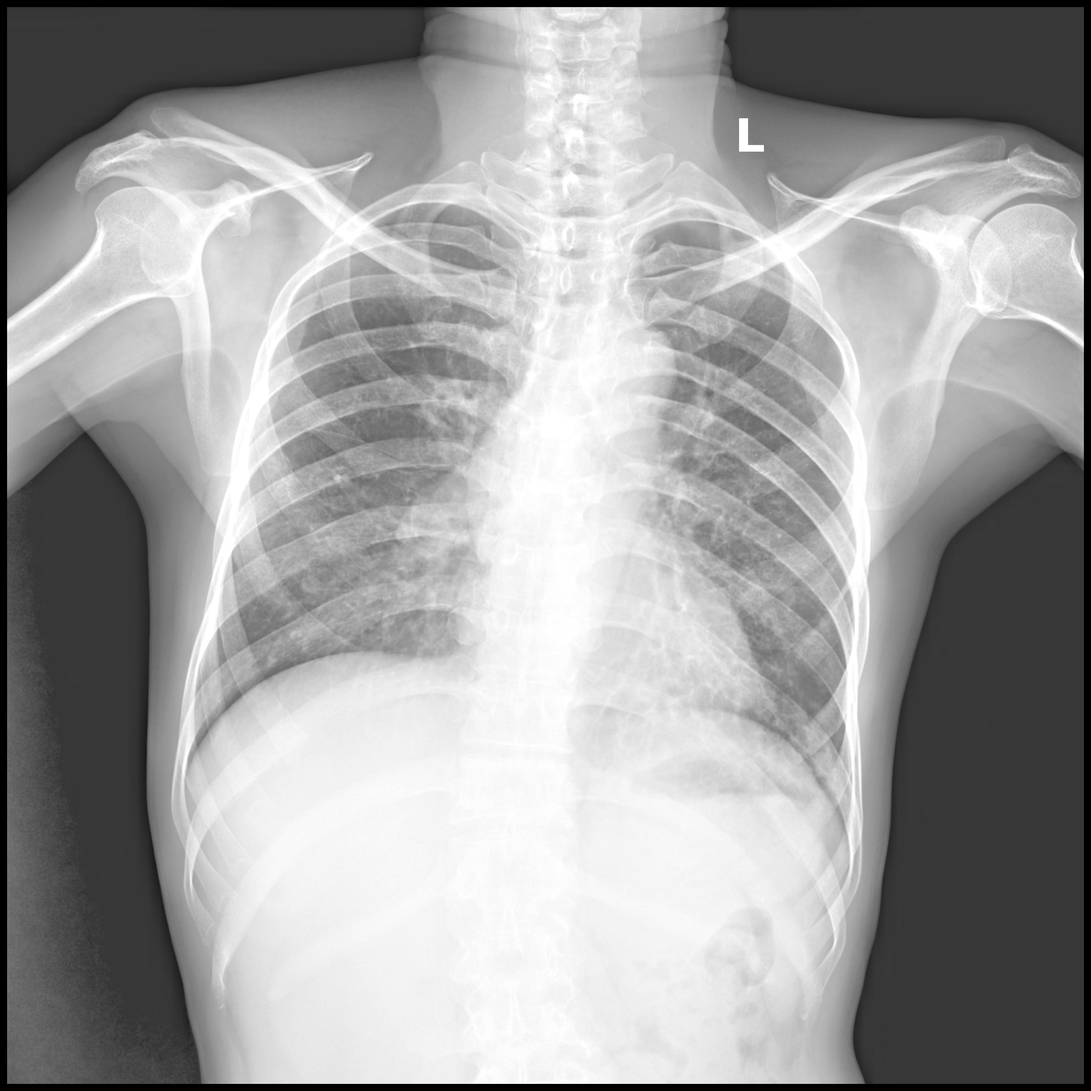Aortic enlargement: (580, 314, 677, 422)
